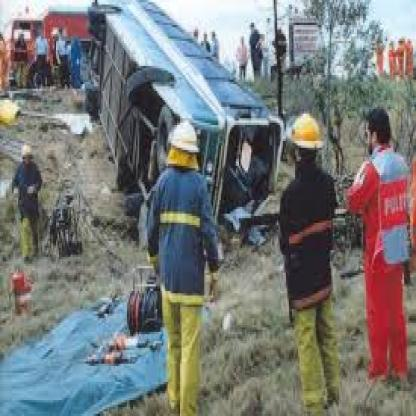accident: (82, 4, 282, 263)
